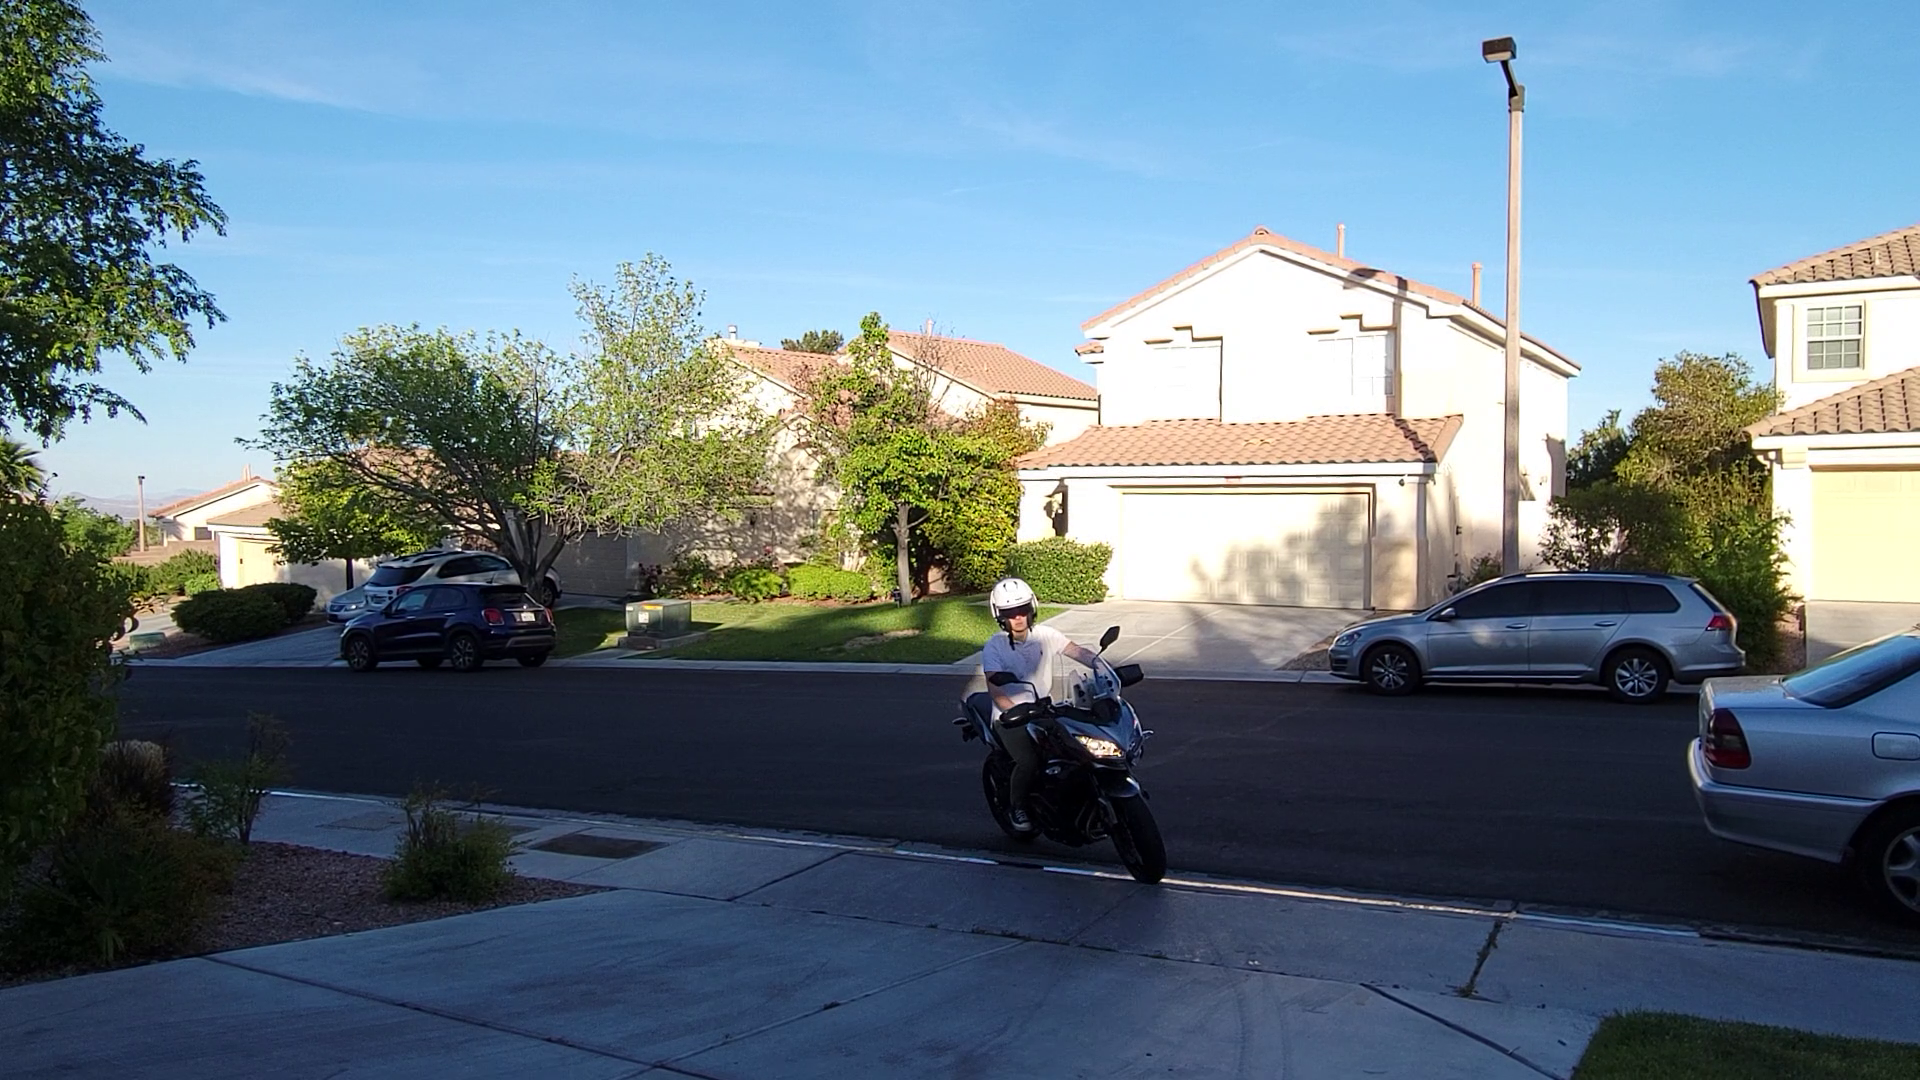my bike: (934, 574, 1174, 887)
